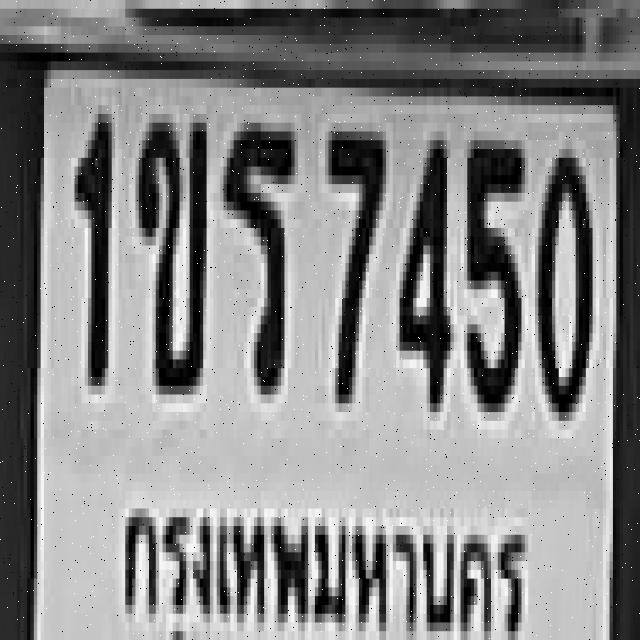0: (535, 140, 589, 412)
1: (71, 105, 108, 377)
11KhorKhai: (136, 114, 203, 386)
4: (396, 132, 447, 404)
44RorRuea: (220, 114, 294, 386)
5: (464, 132, 522, 404)
7: (325, 123, 383, 394)
Bangkok: (117, 486, 536, 640)
